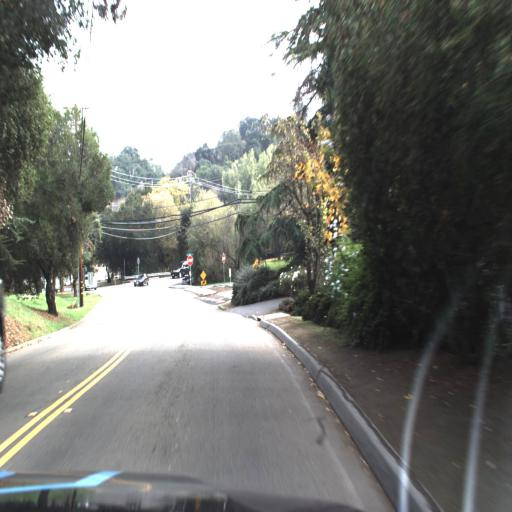car: (171, 257, 191, 281), (81, 268, 99, 293), (131, 269, 152, 290)
